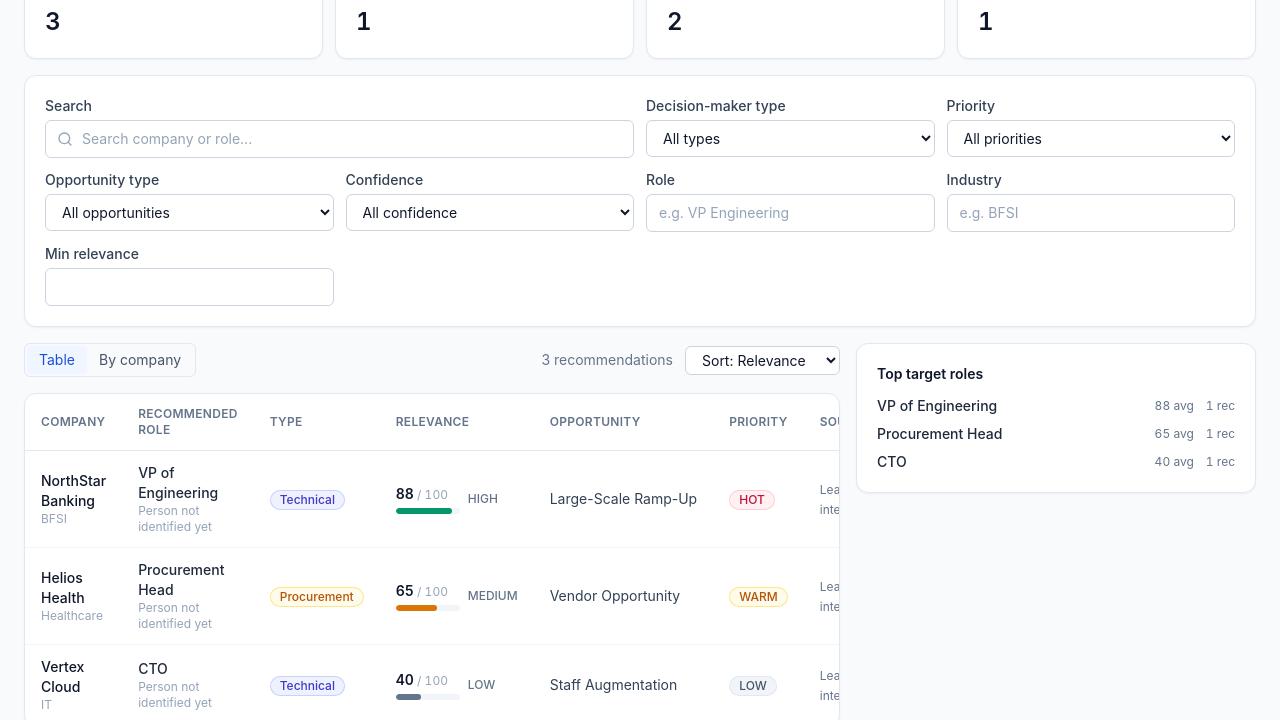
Test case: ContactsPage › groups by company with a primary role
(page scrolled)
Step 1. Click the tab "By company" → coordinates (140, 360), box [87, 346, 193, 374]
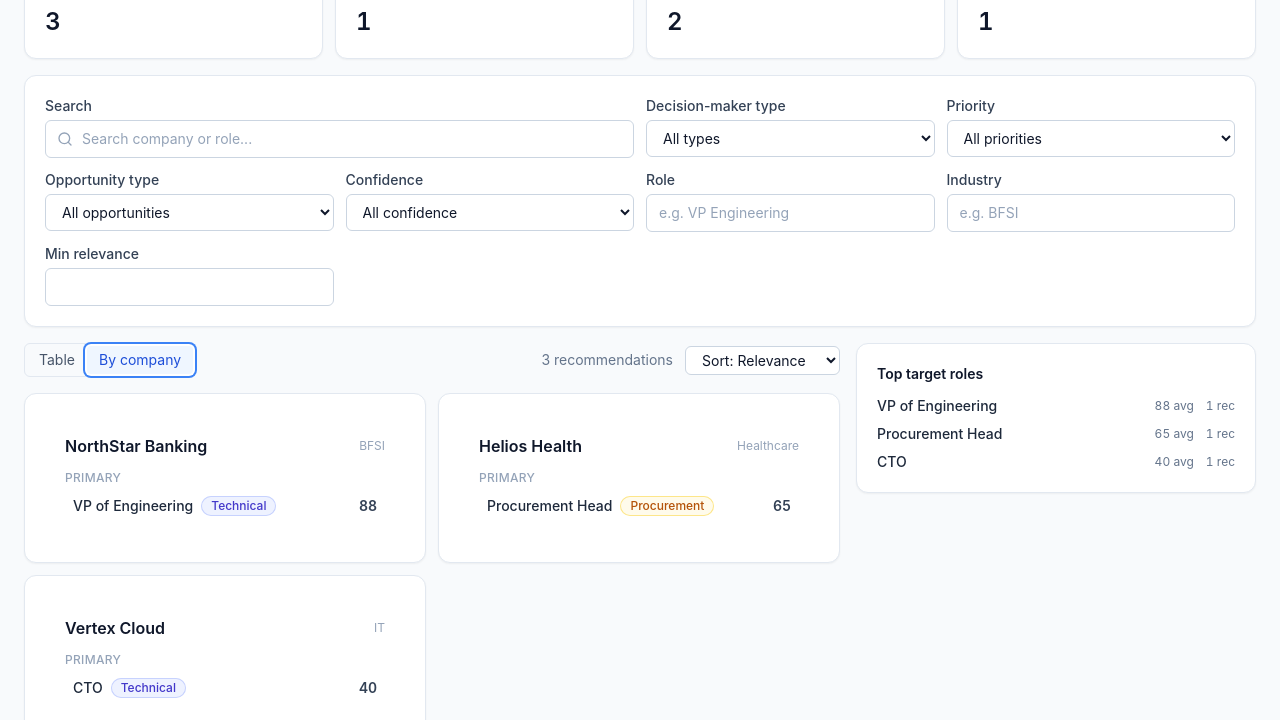
Expected: the text "VP of Engineering" below "NorthStar Banking" is shown, [73, 497, 193, 514]
Result: the text "Primary" below "NorthStar Banking" is shown at [65, 470, 121, 485]
